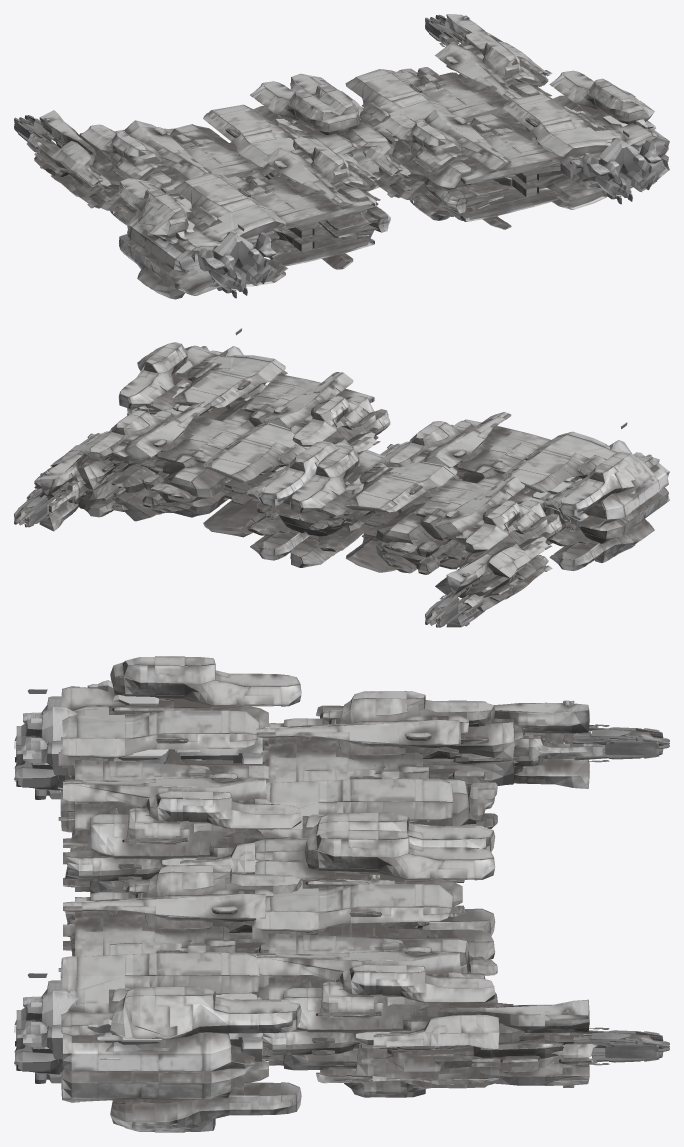
File: CARIER_002.fbx
The picture shows the model from 3 angles, top to bottom: view 1: azimuth 30°, elevation 25°; view 2: azimuth 150°, elevation 25°; view 3: azimuth 270°, elevation 25°; orthographic projection. The views are drawn at different scales.
Visible parts, largest first — view 1: CARIER_002; view 2: CARIER_002; view 3: CARIER_002.
Boxes of the visible parts, <box> form: CARIER_002: <box>14,14,669,299</box>; CARIER_002: <box>14,328,669,627</box>; CARIER_002: <box>14,656,669,1132</box>.
Bounding box in the file's own units: 197 × 33.95 × 147.
